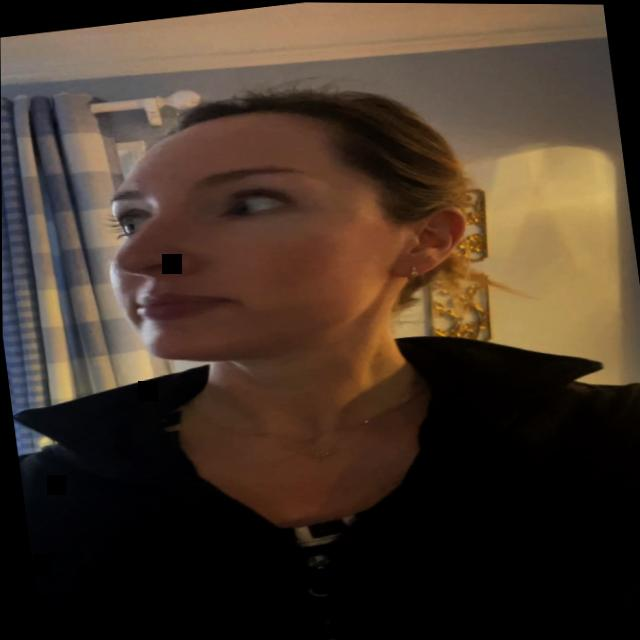NO-Mask: (93, 96, 420, 373)
